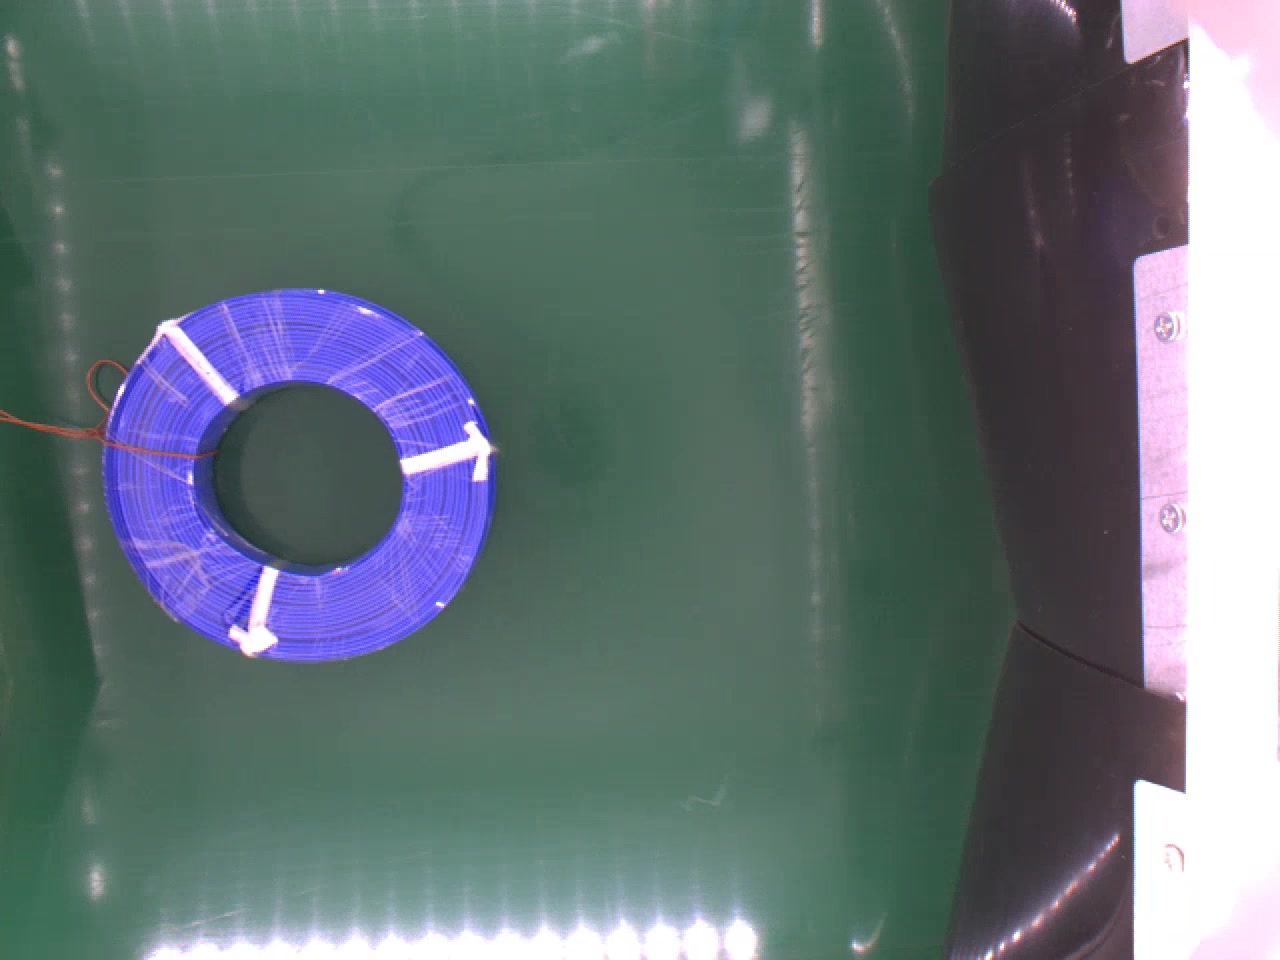blue: (98, 284, 490, 657)
